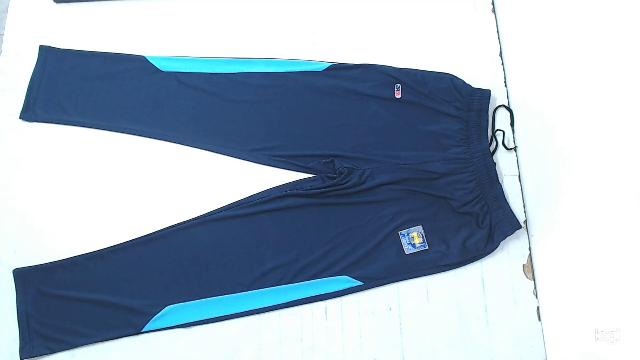new-garment: (14, 46, 520, 358)
